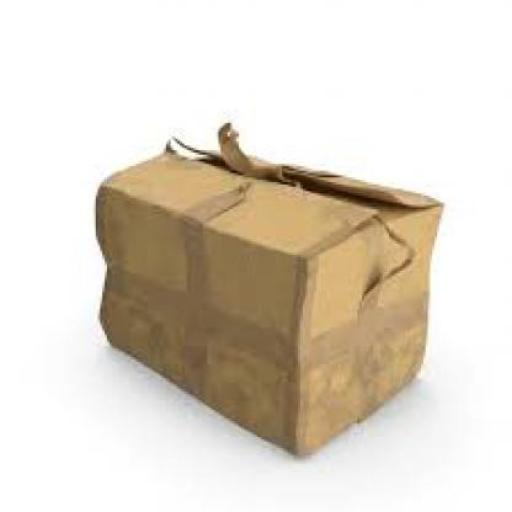cardboard: (98, 120, 446, 458)
